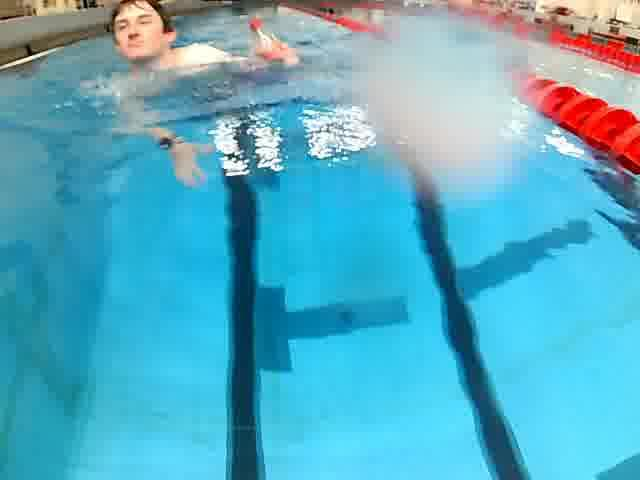Bottle: (240, 15, 308, 83)
